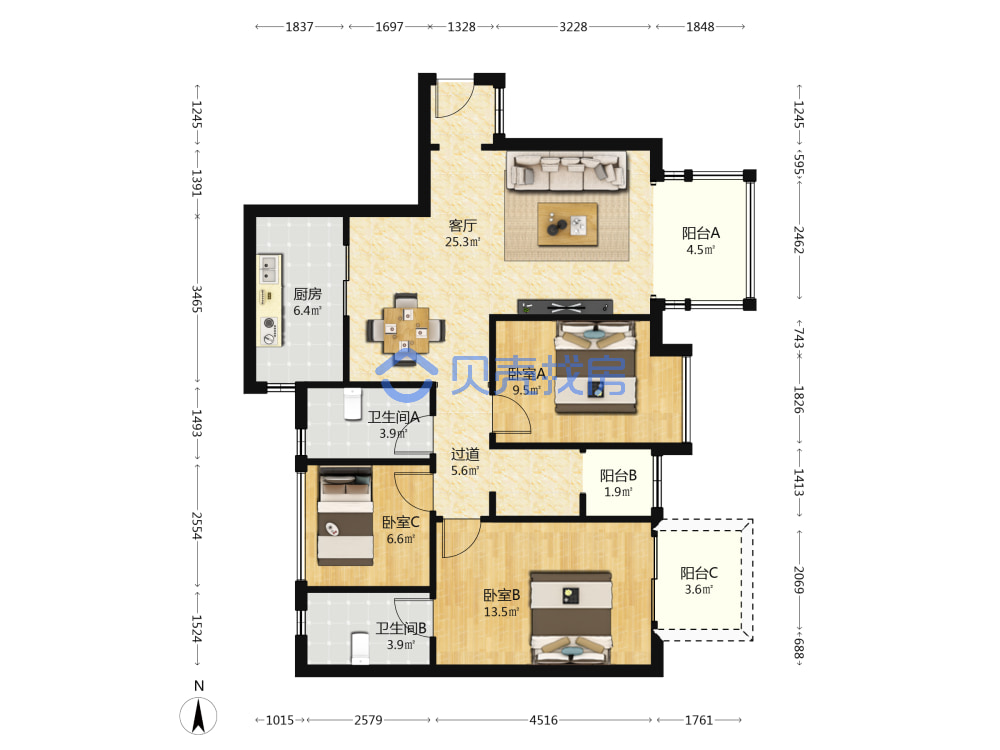DOOR(单开门): (490, 394, 535, 435), (391, 471, 436, 512), (392, 597, 436, 638), (391, 415, 436, 455), (441, 518, 484, 559), (434, 78, 475, 118)
DOOR（移门）: (342, 245, 352, 315)
